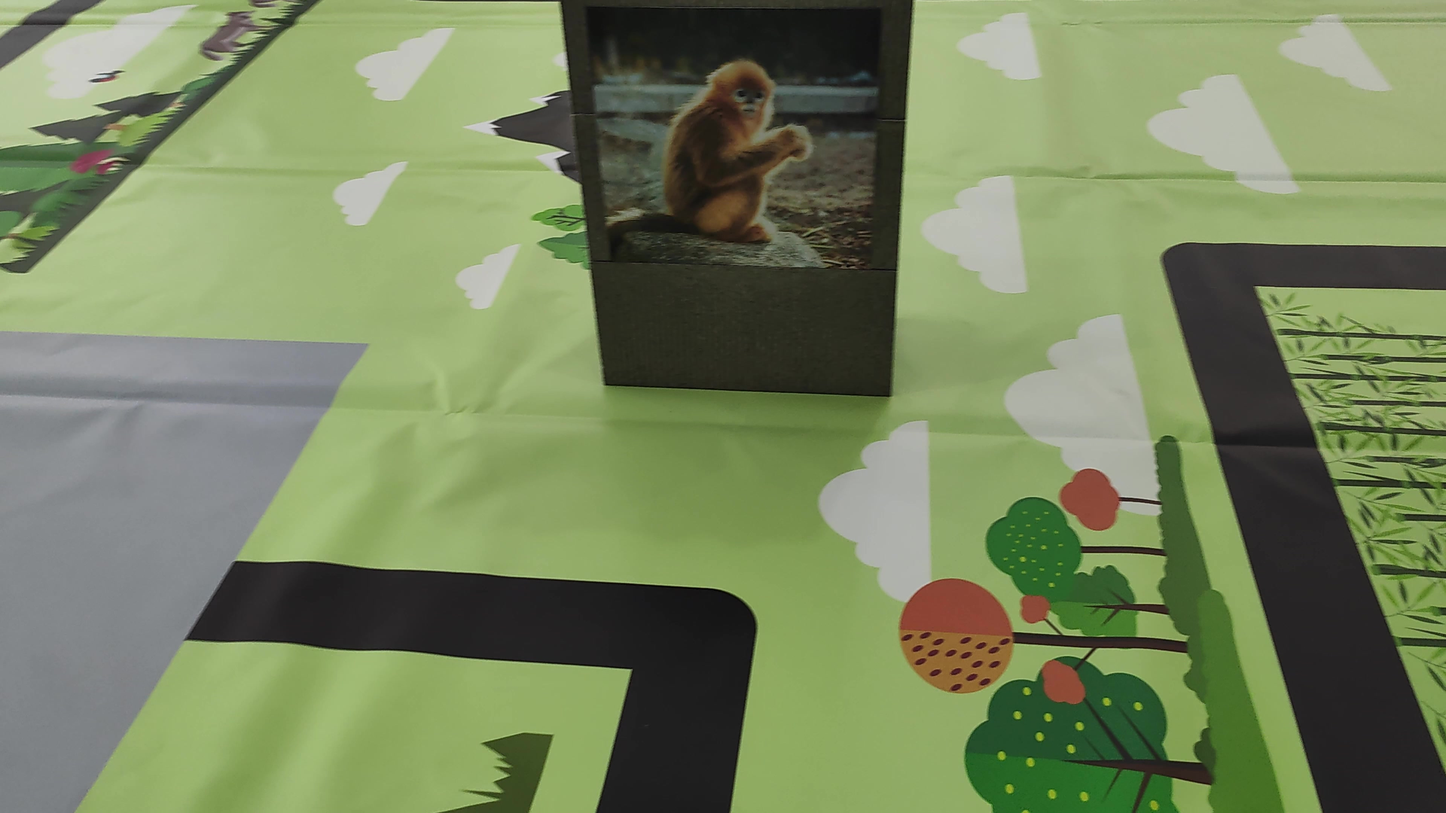monkey: (636, 25, 845, 245)
